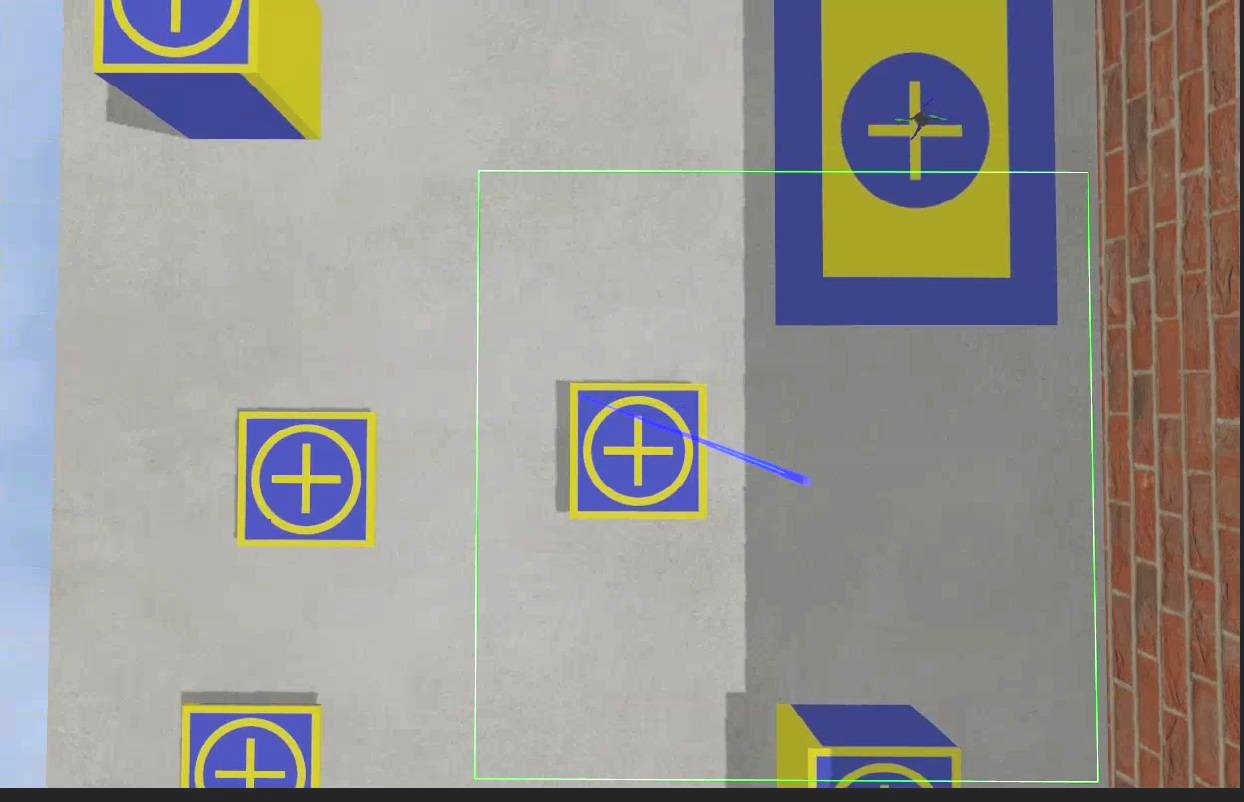large_base: (771, 1, 1062, 333)
small_base: (567, 380, 710, 522), (237, 414, 379, 552), (92, 1, 258, 78), (183, 702, 322, 788), (803, 744, 958, 791)
